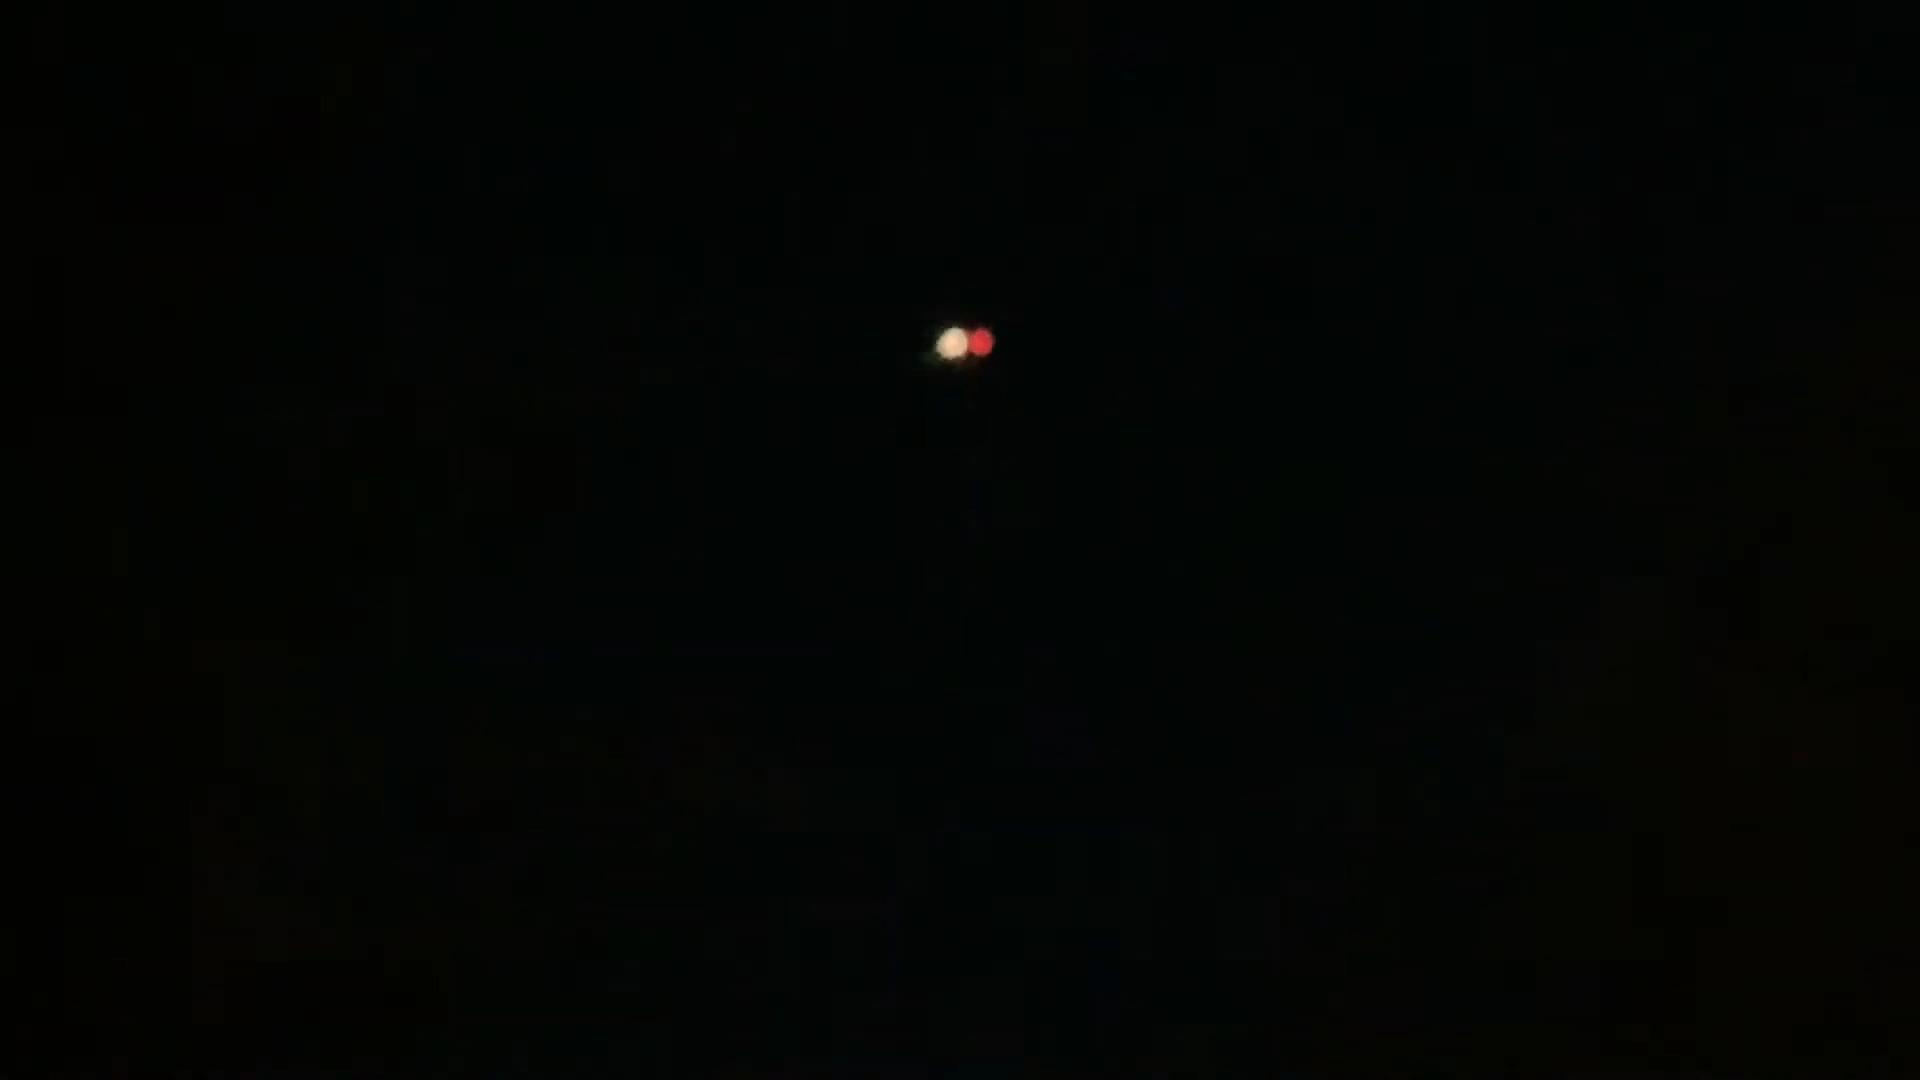Plane: (876, 302, 1046, 386)
